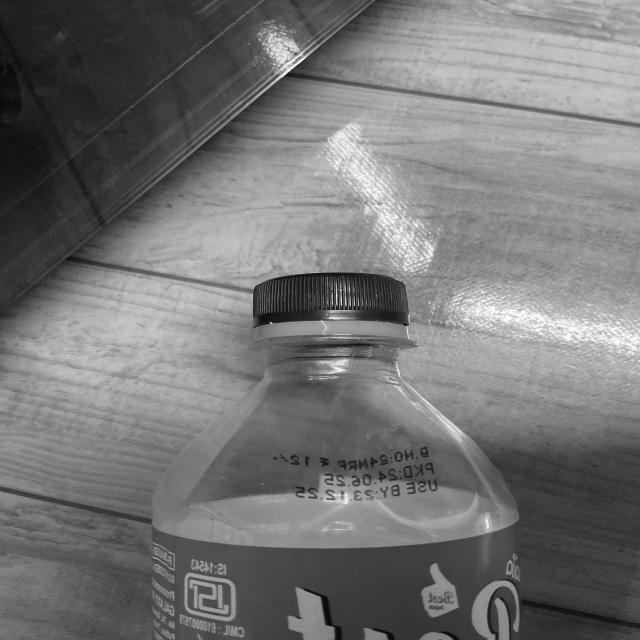Good-cap-Df0S: (247, 271, 415, 346)
